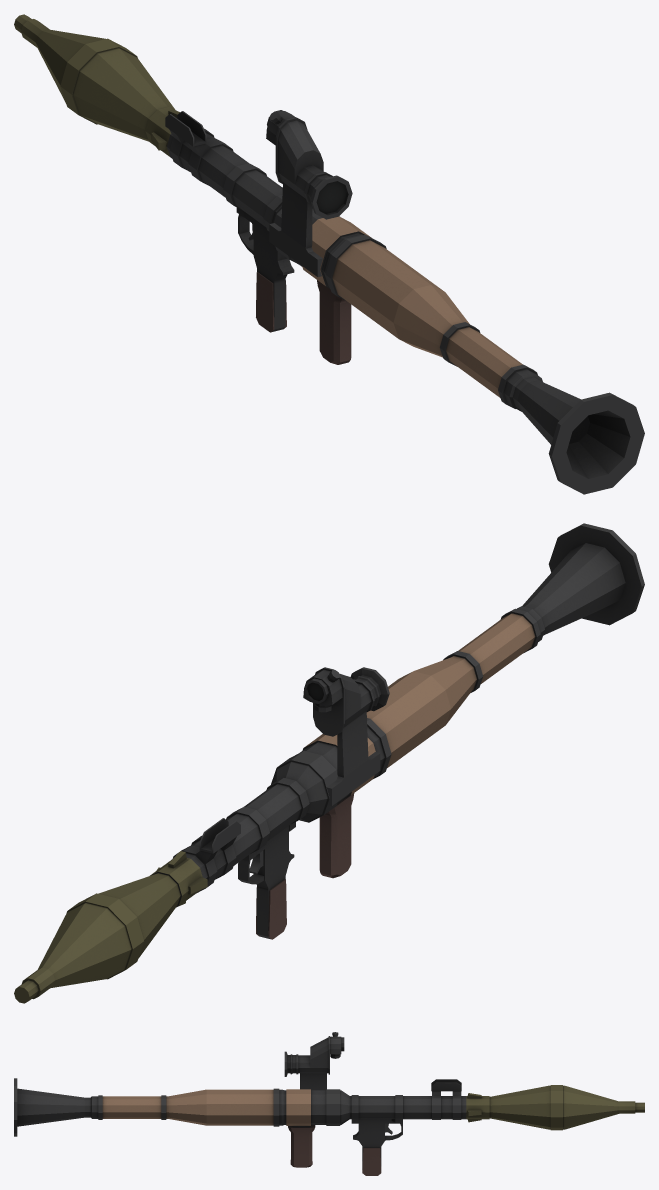
File: rpg7.glb
The picture shows the model from 3 angles, top to bottom: view 1: azimuth 30°, elevation 25°; view 2: azimuth 150°, elevation 25°; view 3: azimuth 270°, elevation 25°; orthographic projection. The views are drawn at different scales.
Parts seen in each view (by area): view 1: Launcher, Rocket, Scope; view 2: Launcher, Rocket, Scope; view 3: Launcher, Rocket, Scope.
Boxes of the visible parts, box(x1,y1,x2,y2) form: Launcher: box(165, 111, 644, 494); Rocket: box(14, 14, 179, 156); Scope: box(266, 110, 352, 276); Launcher: box(171, 523, 644, 939); Rocket: box(14, 851, 207, 1003); Scope: box(303, 667, 389, 805); Launcher: box(14, 1078, 466, 1175); Rocket: box(466, 1085, 644, 1130); Scope: box(284, 1032, 344, 1090).
Size of the model in its own units: 3.97 by 10.03 by 42.62.
Materials: 1 (1 with a texture image).
